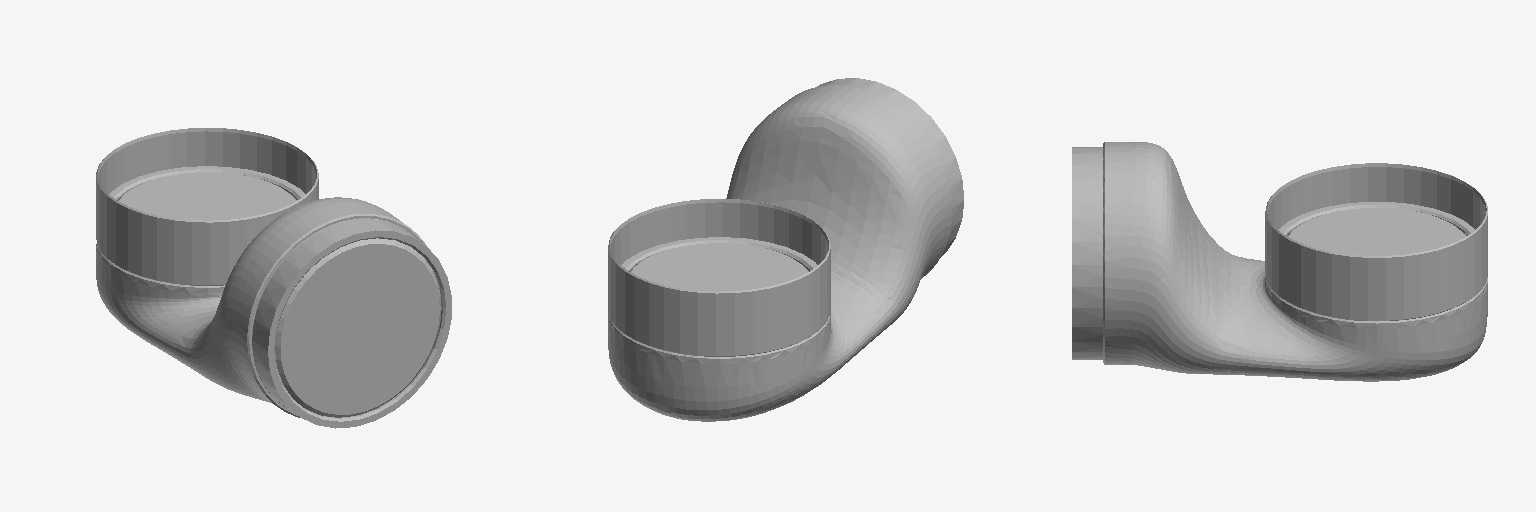
Rendered from shoulder_link_visuals_mesh_0.obj.
3 renders of one model, left to right at view 1: azimuth 30°, elevation 25°; view 2: azimuth 150°, elevation 25°; view 3: azimuth 270°, elevation 25°, orthographic.
Bounding box in the file's own units: 0.0927 × 0.0947 × 0.172.